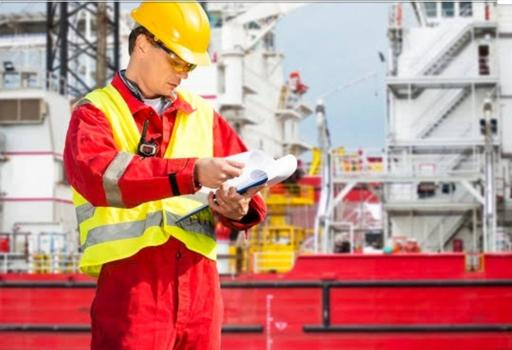hard hat: (131, 3, 221, 65)
safe person: (62, 3, 279, 342)
